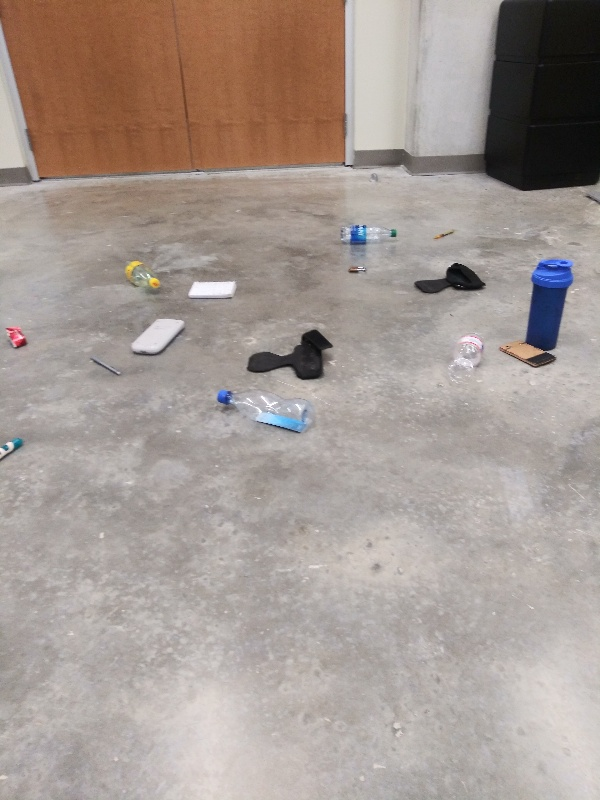bottle: (214, 386, 318, 436), (444, 326, 493, 386), (336, 221, 403, 248), (117, 257, 162, 294)
